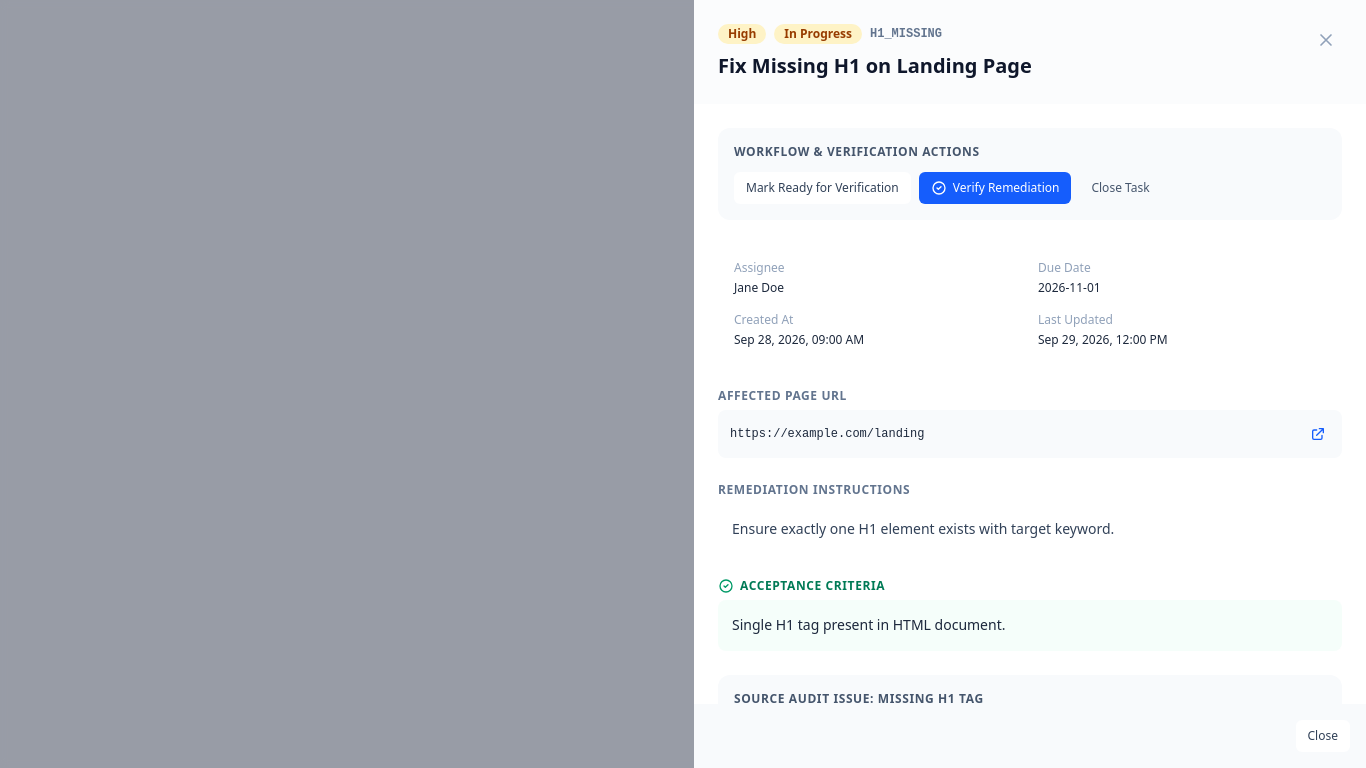
Test: TaskDetailDrawer Component › allows writer to update task status
Step 1. Click the button "Mark Ready for Verification" → (822, 188), box [734,172,911,204]
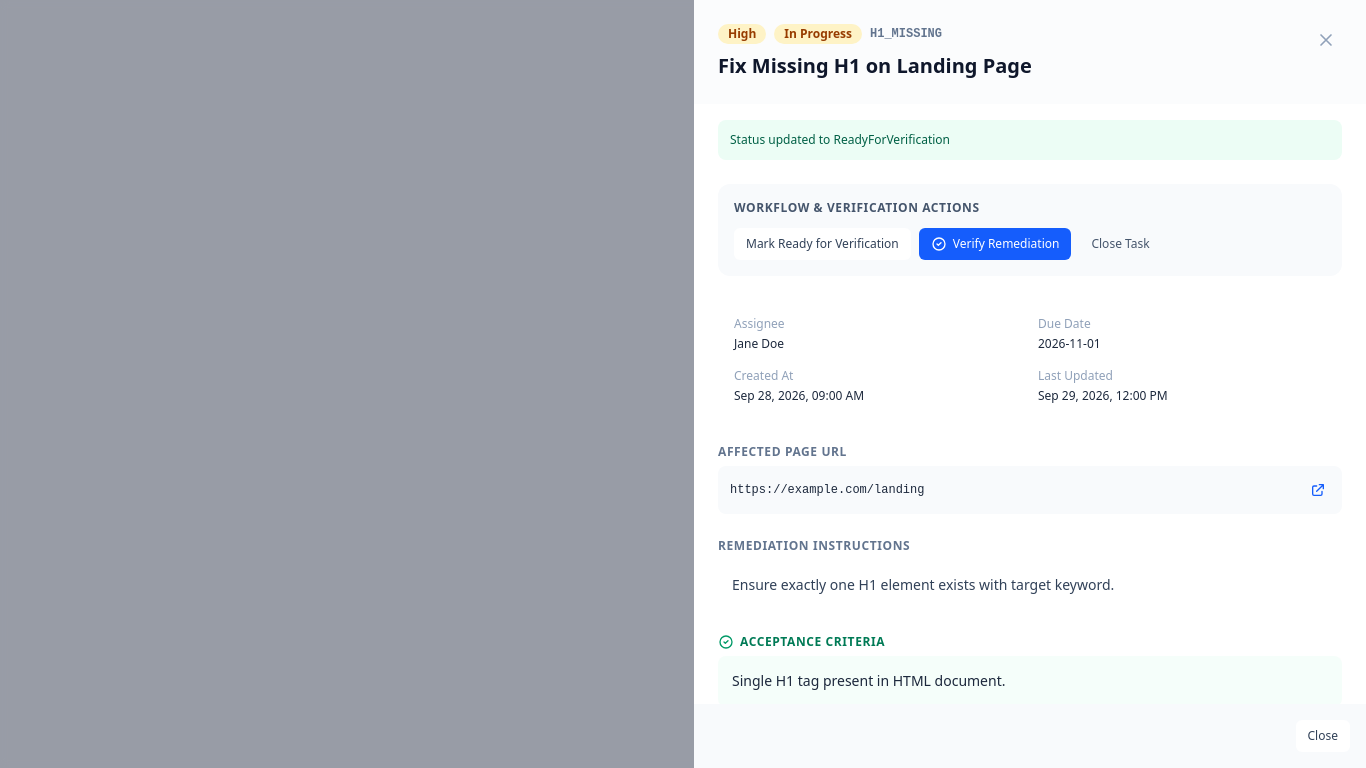
Now the text "Status updated to ReadyForVerification" is shown, box [718,120,1342,160]
